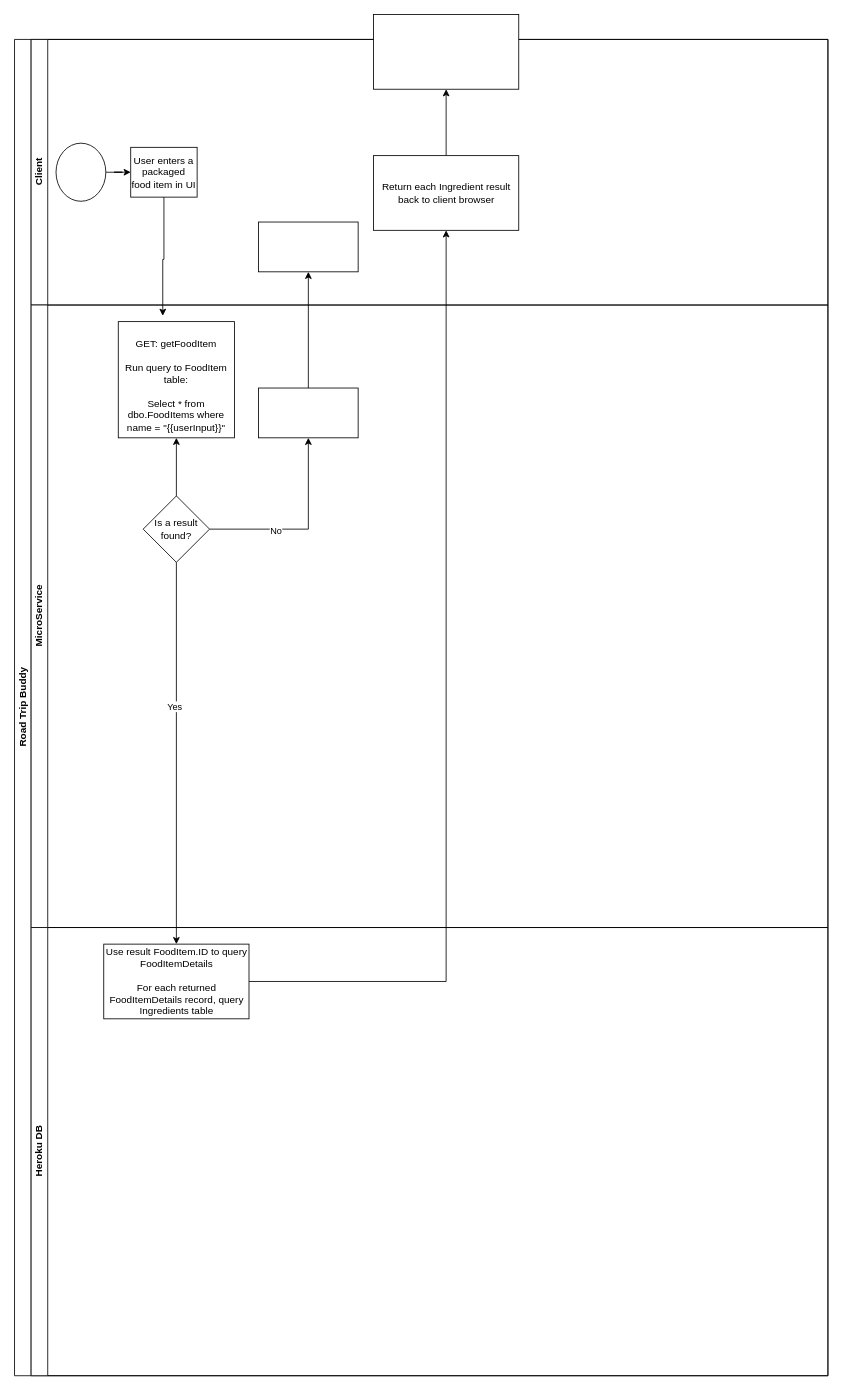
Image size: 842x1390. Some labels were removed from this diagram. Each missing label, with the centre of its shape:
"Display ingredients Result report" belongs at pixel 446 51.
"Redirect user to new item entry UI" belongs at pixel 308 246.
"return empty results array to client browser" belongs at pixel 308 412.
"User accesses page" belongs at pixel 80 171.
